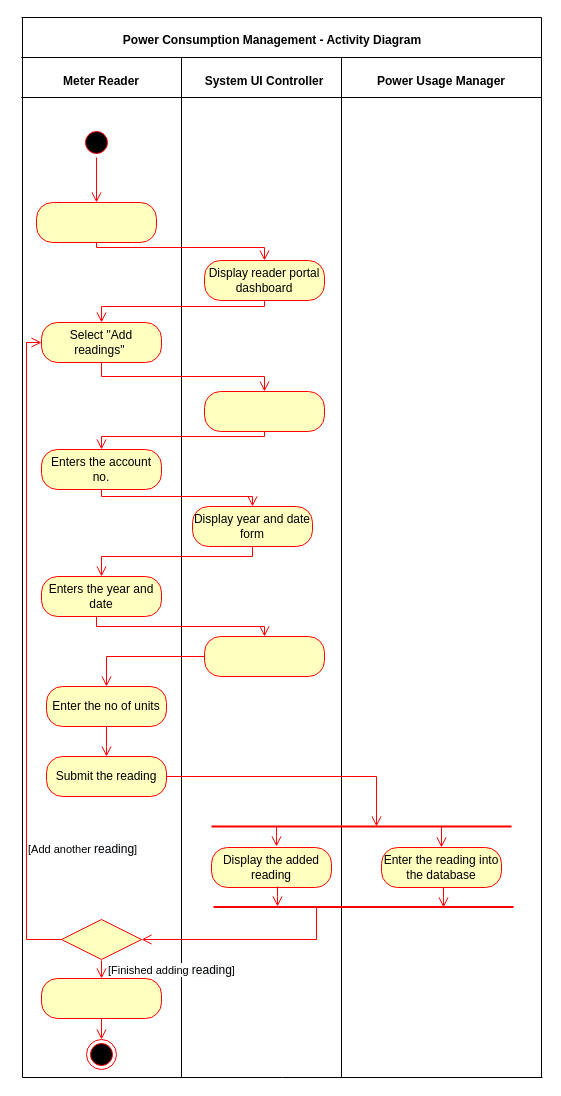
Some shapes in this 561 by 1096 pixel diagram are drawn without their labels. Each missing label, with the centre of its shape:
Display account no. form field: the point at 264,411
Display the no of units: the point at 264,656
Log into the system: the point at 96,222
Signout: the point at 101,998
